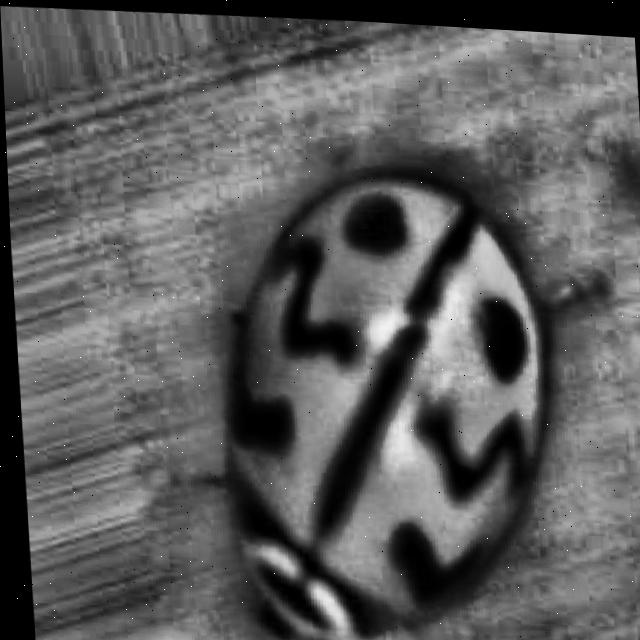Asian-Lady-beetle: (114, 82, 635, 640)
